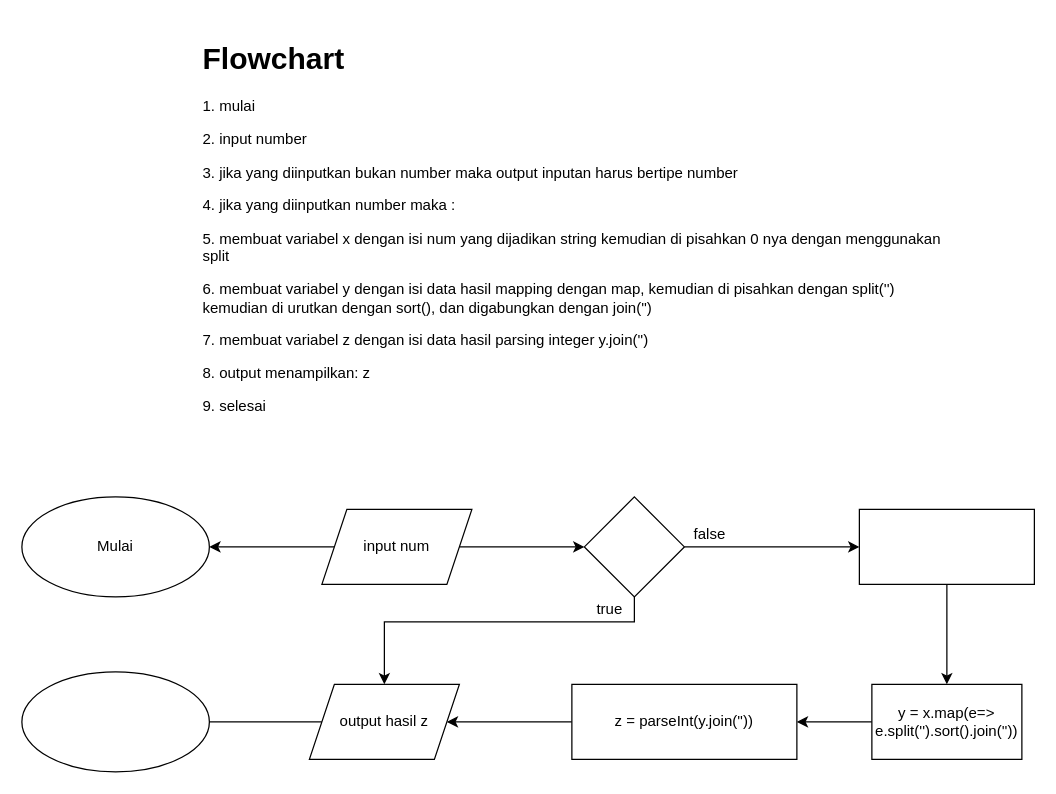
The diagram is 1056 pixels wide and 794 high, and some of its shapes have lost their labels. Here are the shapes that lost their labels. From the top down, the centre of each, then its label:
(x=633, y=546): num !== number
(x=946, y=546): x = num.toString().split('0')
(x=115, y=721): Selesai
